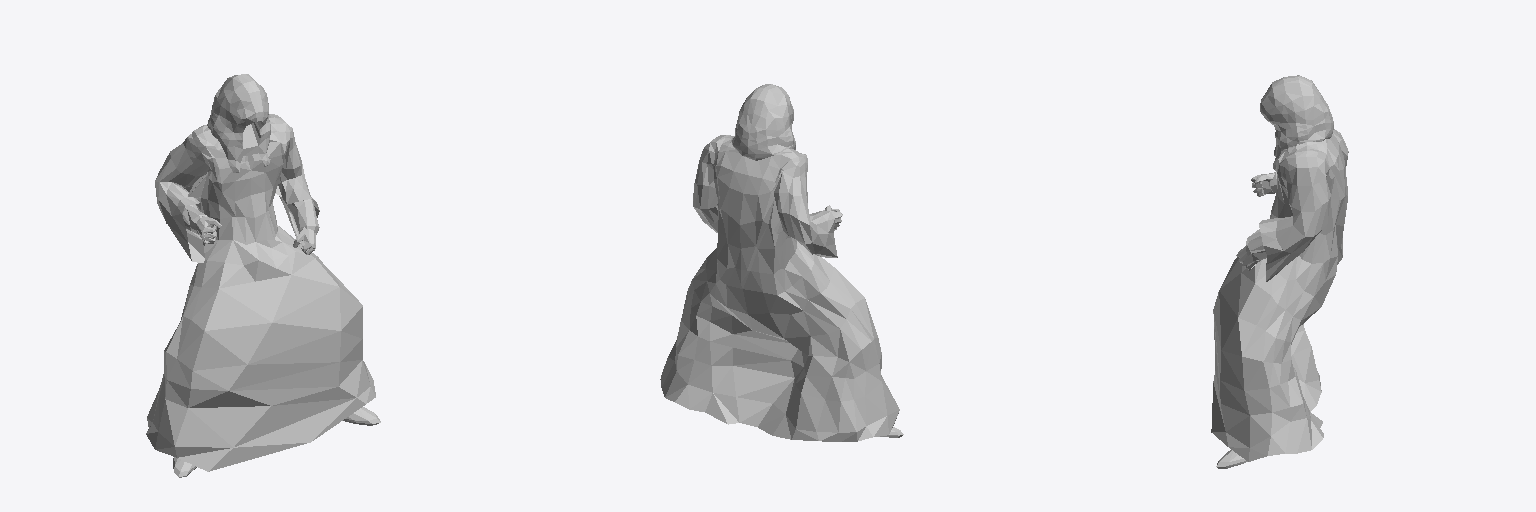
Rendered from Fellbeast_Animate_Flying_21.obj.
3 renders of one model, left to right at view 1: azimuth 30°, elevation 25°; view 2: azimuth 150°, elevation 25°; view 3: azimuth 270°, elevation 25°, orthographic.
Parts seen in each view (by area): view 1: dm_nazgulrobe_ride_241108; view 2: dm_nazgulrobe_ride_241108; view 3: dm_nazgulrobe_ride_241108.
Part boxes in pixels (x1,y1,x2,y2): dm_nazgulrobe_ride_241108: (146, 74, 380, 477); dm_nazgulrobe_ride_241108: (660, 84, 903, 441); dm_nazgulrobe_ride_241108: (1211, 75, 1348, 468).
Size of the model in its own units: 0.4416 by 0.6689 by 0.2361.